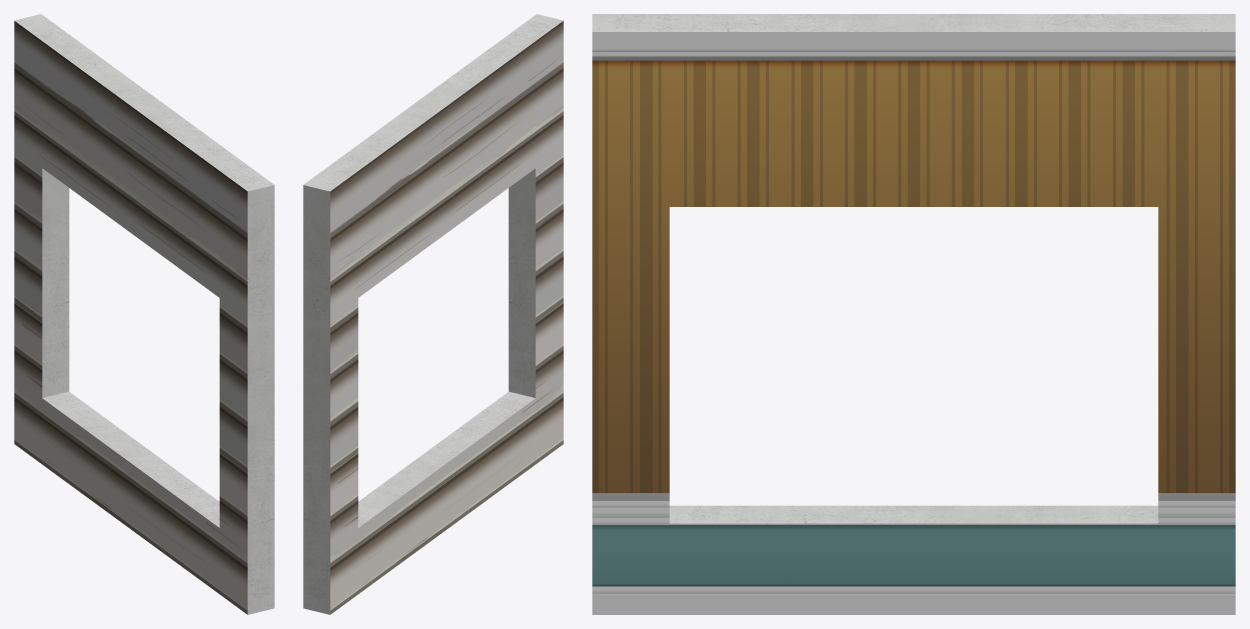
Rendered from wall01_window2m_A.fbx.
3 renders of one model, left to right at view 1: azimuth 30°, elevation 25°; view 2: azimuth 150°, elevation 25°; view 3: azimuth 270°, elevation 25°, orthographic. The views are drawn at different scales.
Parts seen in each view (by area): view 1: wall01_window2m_A; view 2: wall01_window2m_A; view 3: wall01_window2m_A.
Boxes of the visible parts, <box> form: wall01_window2m_A: <box>14,14,274,614</box>; wall01_window2m_A: <box>303,14,563,614</box>; wall01_window2m_A: <box>592,14,1235,614</box>.
Size of the model in its own units: 20 by 300 by 300.
